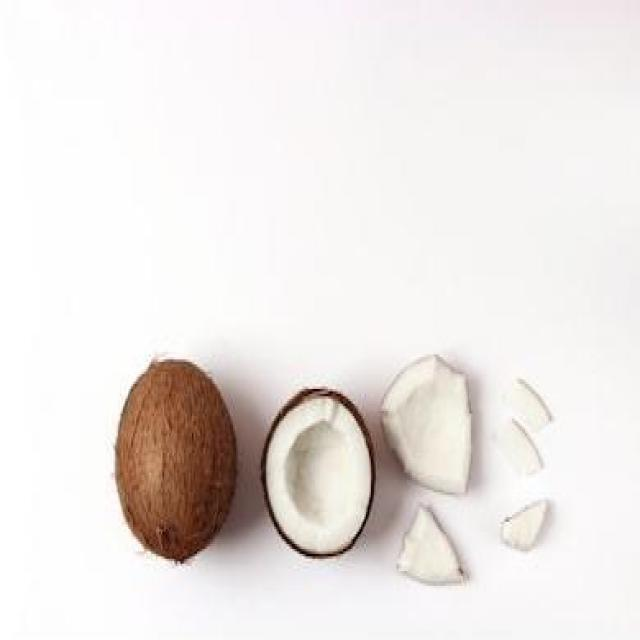coconut: (113, 352, 236, 566), (258, 384, 377, 559)
